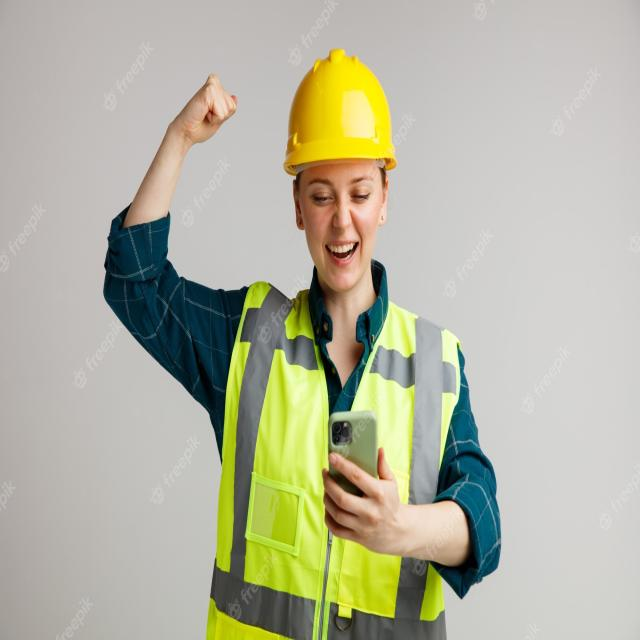helmet: (282, 46, 397, 176)
no-goggles: (286, 165, 396, 222)
vest: (204, 278, 462, 640)
